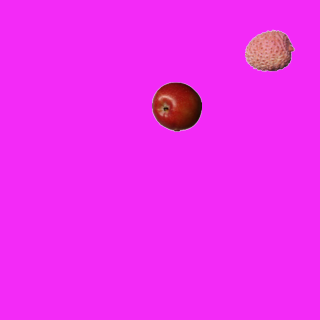Apple Braeburn: (151, 81, 201, 131)
Lychee: (244, 25, 294, 75)
